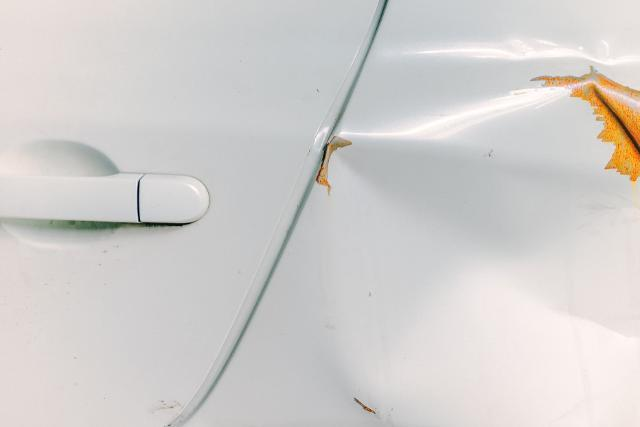Fender: (307, 0, 640, 427)
